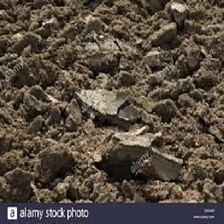loamy_soil: (12, 18, 207, 191)
